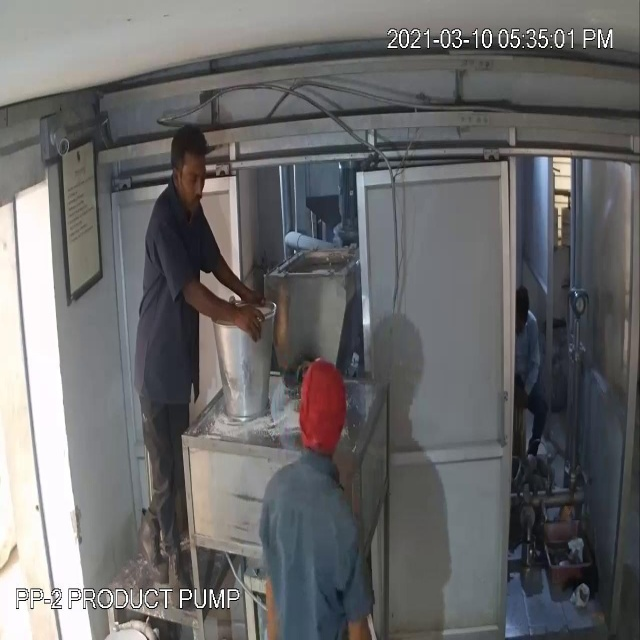Sin_guantes: (189, 265, 266, 351)
